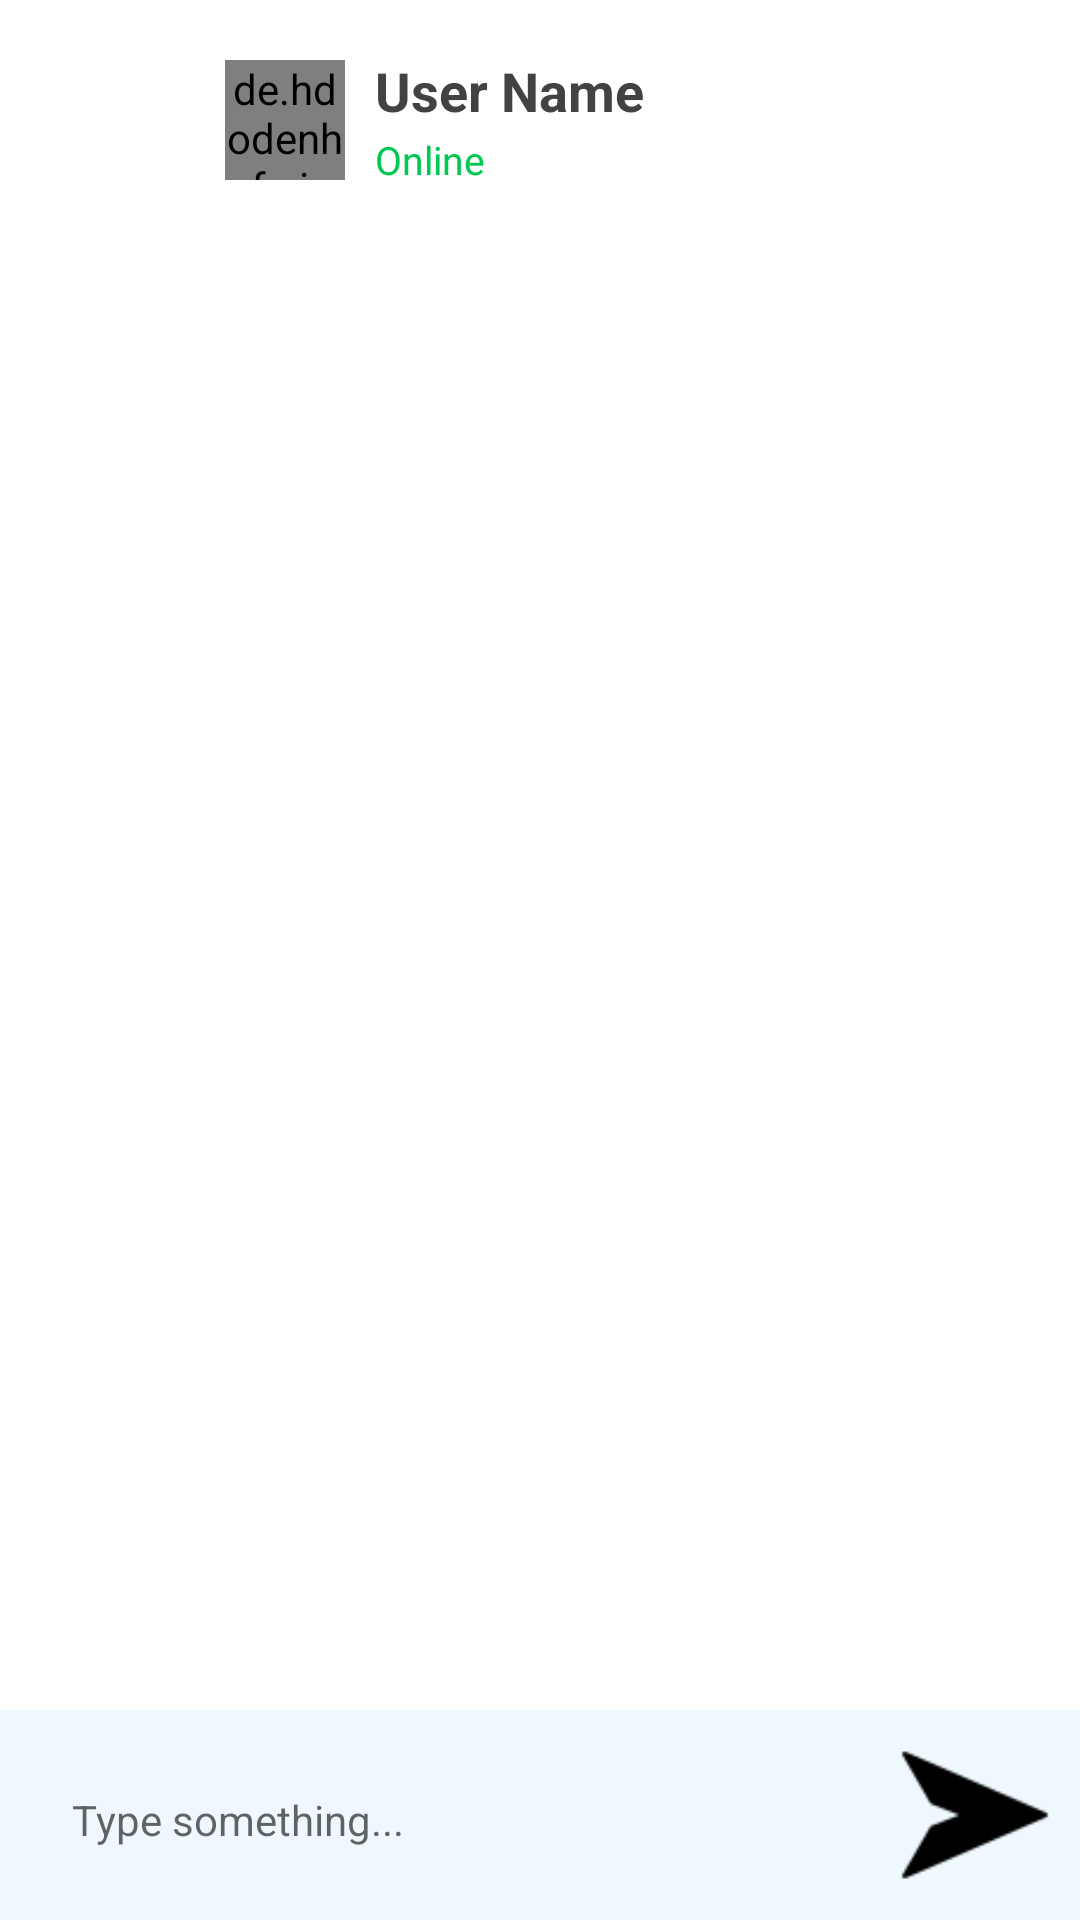

Icons on this 1080×1920 Android screen, each with the point to tap as [x,y]:
send: [975,1815]
